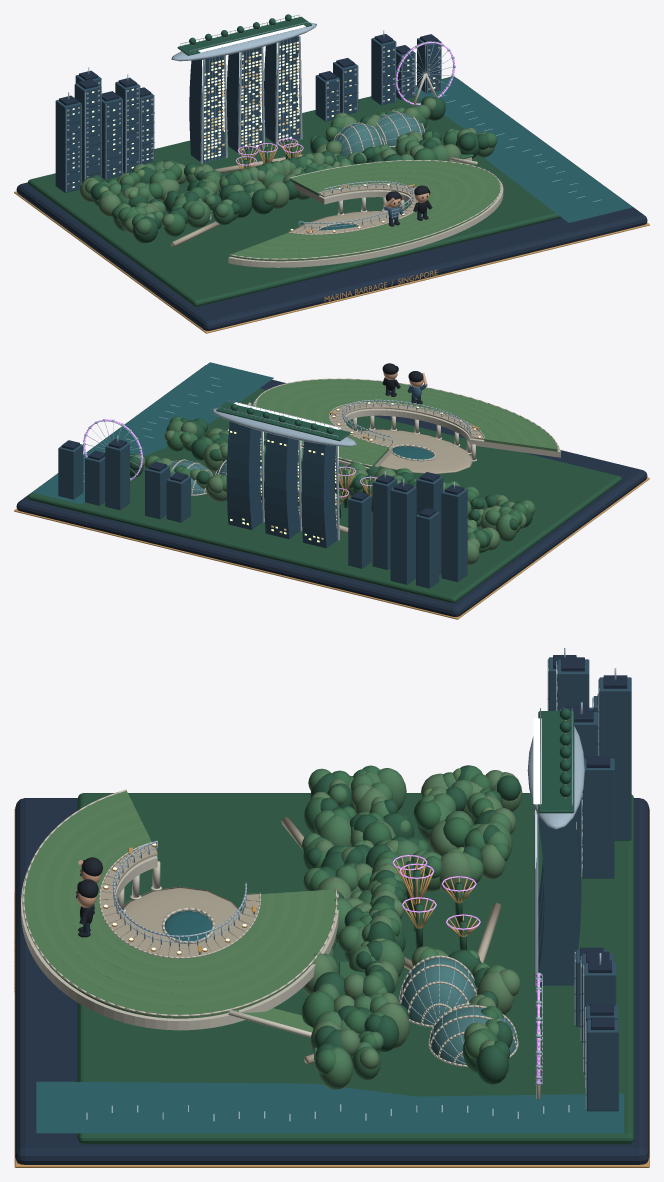
Rendered from singapore-marina-bay.glb.
3 views of the same model, one above another, from view 1: azimuth 30°, elevation 25°; view 2: azimuth 150°, elevation 25°; view 3: azimuth 270°, elevation 25° (orthographic). The views are drawn at different scales.
Parts seen in each view (by area): view 1: GLB Canopy 0, GLB Blue curtain wall, GLB Midnight enamel, GLB Pearl structural ribs, GLB Reservoir teal, GLB Barrage soft lawn, GLB Canopy 2, GLB Barrage ivory concrete, GLB Canopy 3, GLB Lawn subtle mowing bands, GLB Canopy 1, GLB Champagne trim (+8 smaller); view 2: GLB Blue curtain wall, GLB Canopy 0, GLB Midnight enamel, GLB Reservoir teal, GLB Barrage soft lawn, GLB Warm limestone, GLB Pearl structural ribs, GLB Barrage ivory concrete, GLB Lawn subtle mowing bands, GLB Canopy 3, GLB Champagne trim, GLB Canopy 2 (+4 smaller); view 3: GLB Canopy 0, GLB Midnight enamel, GLB Reservoir teal, GLB Blue curtain wall, GLB Barrage soft lawn, GLB Canopy 2, GLB Canopy 3, GLB Lawn subtle mowing bands, GLB Barrage ivory concrete, GLB Canopy 1, GLB Warm limestone, GLB Pearl structural ribs (+5 smaller).
Boxes of the visible parts, left/top/right/bottom form: GLB Canopy 0: left=28, top=77, right=618, bottom=306; GLB Blue curtain wall: left=55, top=35, right=441, bottom=192; GLB Midnight enamel: left=16, top=34, right=647, bottom=330; GLB Pearl structural ribs: left=66, top=14, right=601, bottom=229; GLB Reservoir teal: left=319, top=77, right=632, bottom=230; GLB Barrage soft lawn: left=230, top=160, right=499, bottom=261; GLB Canopy 2: left=106, top=104, right=494, bottom=235; GLB Barrage ivory concrete: left=209, top=73, right=503, bottom=267; GLB Canopy 3: left=79, top=98, right=476, bottom=234; GLB Lawn subtle mowing bands: left=240, top=164, right=488, bottom=254; GLB Canopy 1: left=90, top=106, right=497, bottom=236; GLB Champagne trim: left=14, top=21, right=649, bottom=333; GLB Blue curtain wall: left=58, top=421, right=467, bottom=588; GLB Canopy 0: left=28, top=384, right=621, bottom=603; GLB Midnight enamel: left=16, top=365, right=647, bottom=616; GLB Reservoir teal: left=32, top=362, right=434, bottom=504; GLB Barrage soft lawn: left=251, top=379, right=557, bottom=467; GLB Warm limestone: left=299, top=403, right=483, bottom=533; GLB Pearl structural ribs: left=83, top=377, right=471, bottom=540; GLB Barrage ivory concrete: left=172, top=378, right=560, bottom=495; GLB Lawn subtle mowing bands: left=267, top=383, right=545, bottom=462; GLB Canopy 3: left=134, top=421, right=526, bottom=565; GLB Champagne trim: left=14, top=403, right=649, bottom=619; GLB Canopy 2: left=145, top=420, right=535, bottom=541; GLB Canopy 0: left=77, top=765, right=633, bottom=1144; GLB Midnight enamel: left=15, top=655, right=649, bottom=1164; GLB Reservoir teal: left=36, top=910, right=623, bottom=1133; GLB Blue curtain wall: left=538, top=657, right=631, bottom=1111; GLB Barrage soft lawn: left=24, top=791, right=335, bottom=1032; GLB Canopy 2: left=302, top=768, right=512, bottom=1089; GLB Canopy 3: left=302, top=770, right=522, bottom=1069; GLB Lawn subtle mowing bands: left=36, top=799, right=323, bottom=1005; GLB Barrage ivory concrete: left=21, top=789, right=540, bottom=1098; GLB Canopy 1: left=301, top=765, right=509, bottom=1080; GLB Warm limestone: left=100, top=817, right=501, bottom=1064; GLB Pearl structural ribs: left=86, top=648, right=616, bottom=1121.
Bounding box in the file's own units: 0.3004 × 0.0891 × 0.2256.
